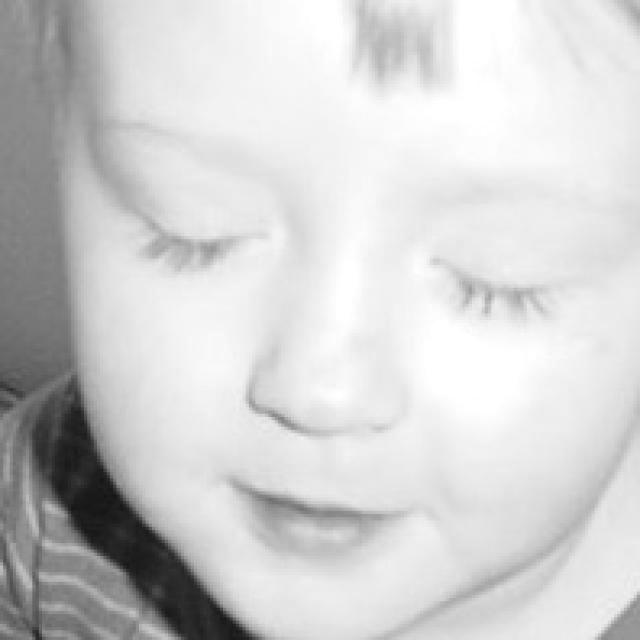real: (42, 0, 608, 611), (108, 136, 584, 338)
